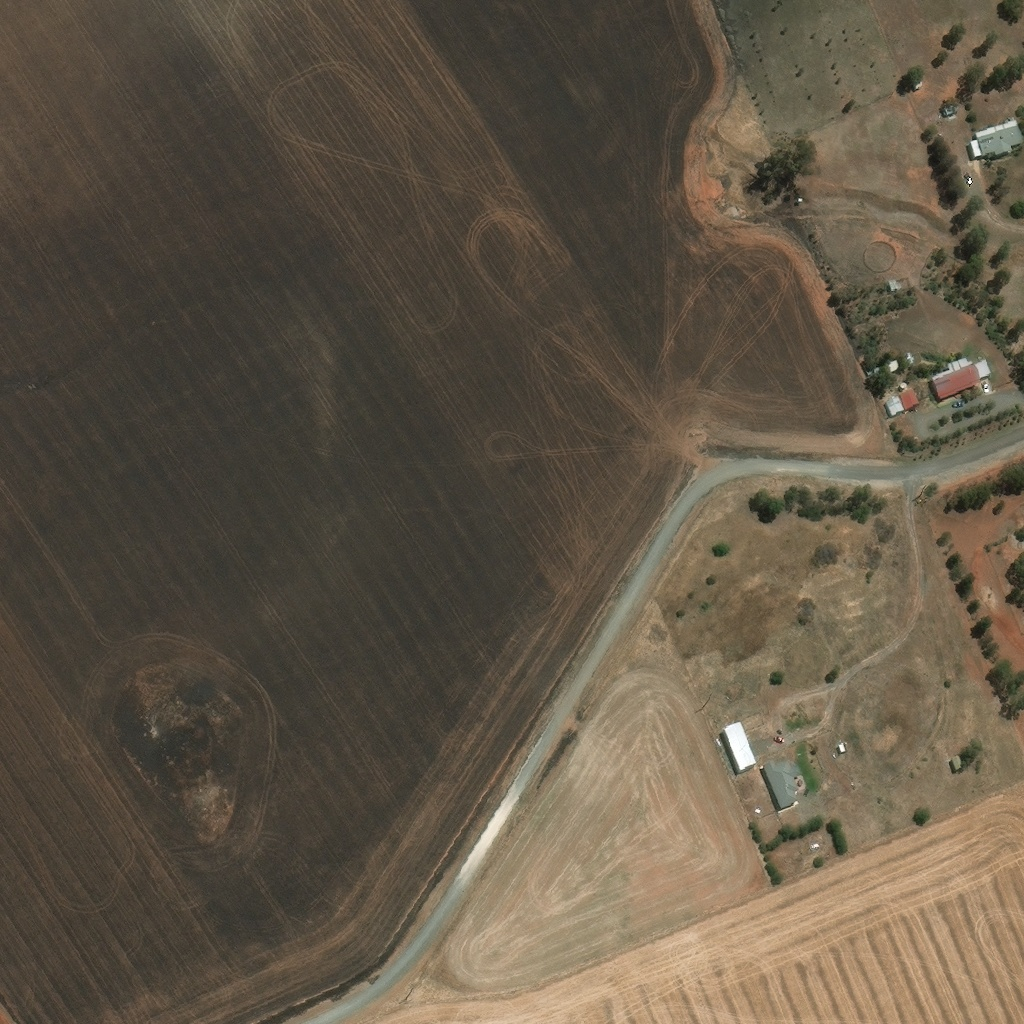0 no-damage: (760, 758, 802, 810), (932, 356, 979, 397), (970, 121, 1022, 157), (723, 723, 756, 772), (971, 349, 993, 387), (899, 387, 920, 407), (885, 394, 905, 413), (888, 354, 904, 369), (951, 753, 964, 768), (889, 276, 902, 289), (943, 108, 956, 117), (913, 82, 922, 90)
4 un-classified: (937, 133, 948, 147)
